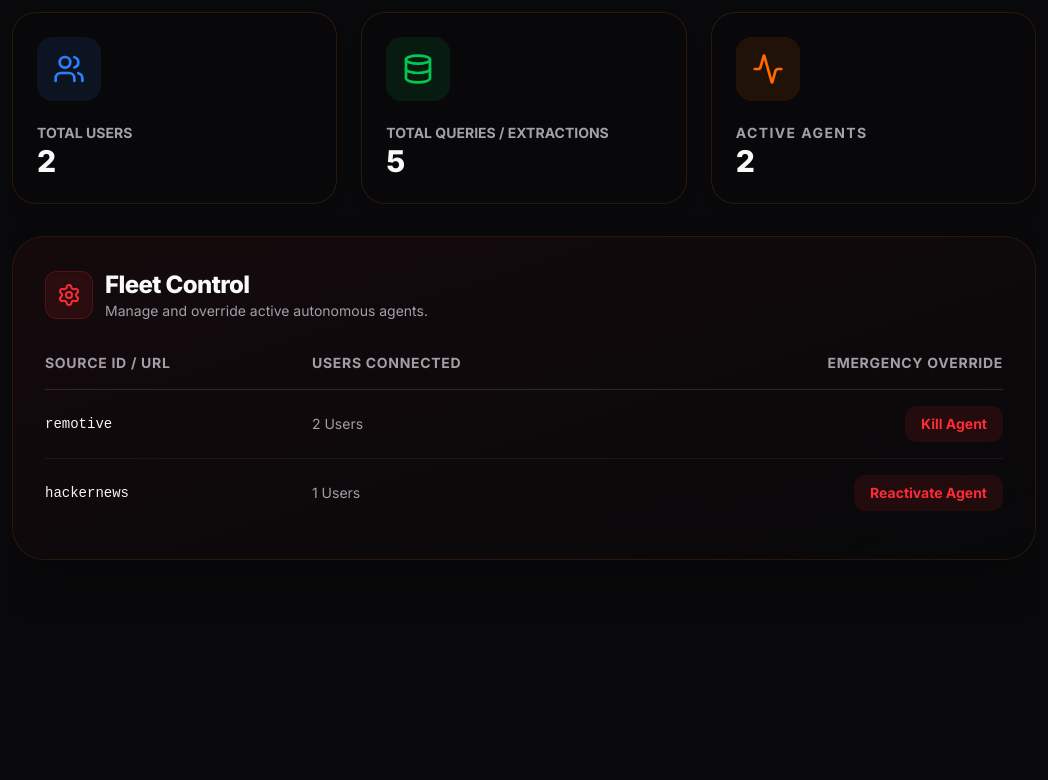
AdminDashboardContent › renders real users instead of hardcoded mock rows
The image size is (1048, 780).
Click the text "Total Users".
click(85, 132)  # box [37,124,132,141]
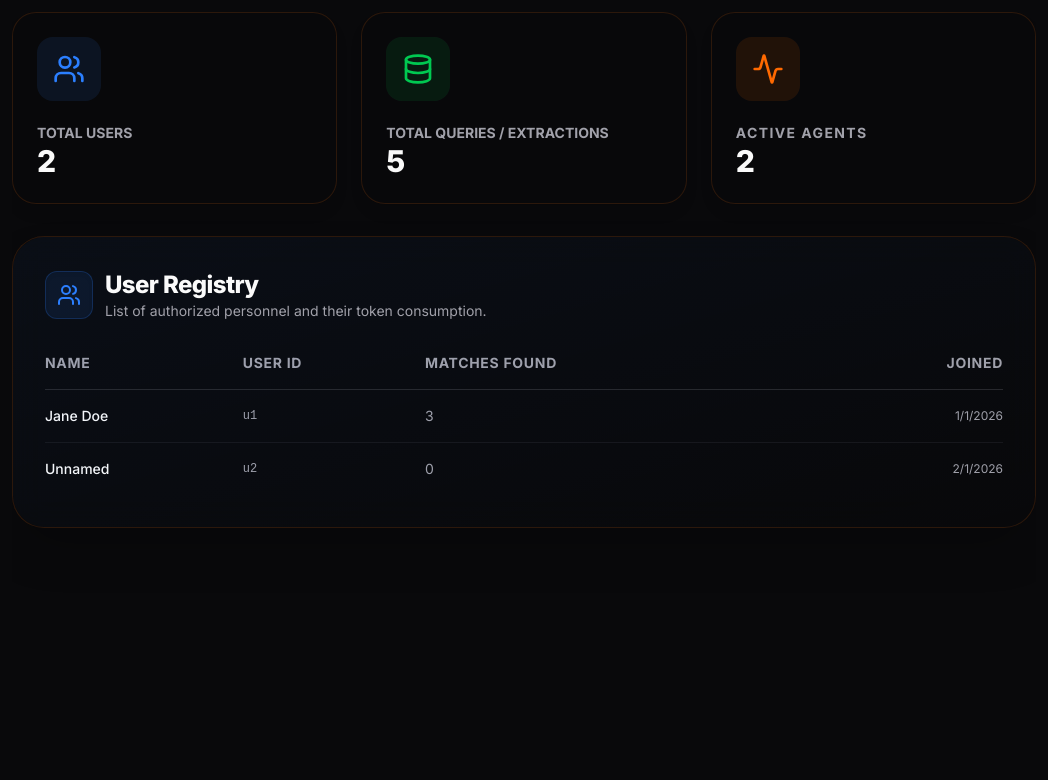
Expected: the text "Jane Doe" is shown, [45,390,243,442]
Expected: the text "u1" is shown, [243,390,425,442]
